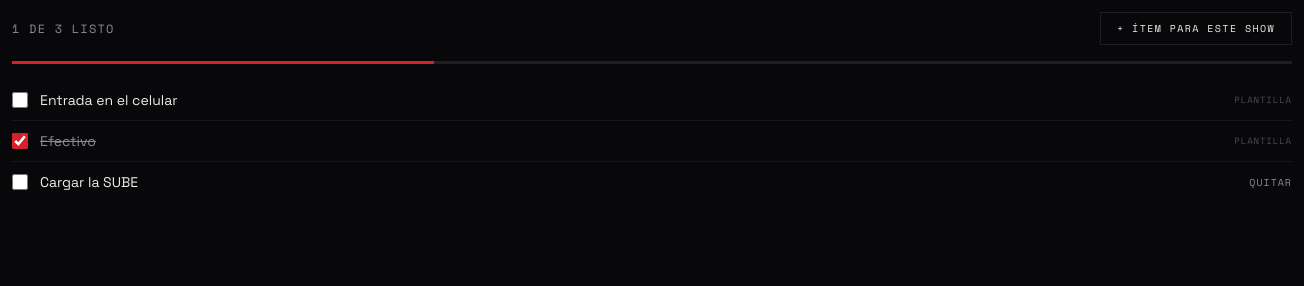
Test: PreShowChecklist › agrega un ítem puntual del show sin tocar la plantilla
The width and height of the screenshot is (1304, 286).
Click the button "+ Ítem para este show". click: click(1196, 28)
box: 1100,12 -> 1292,45
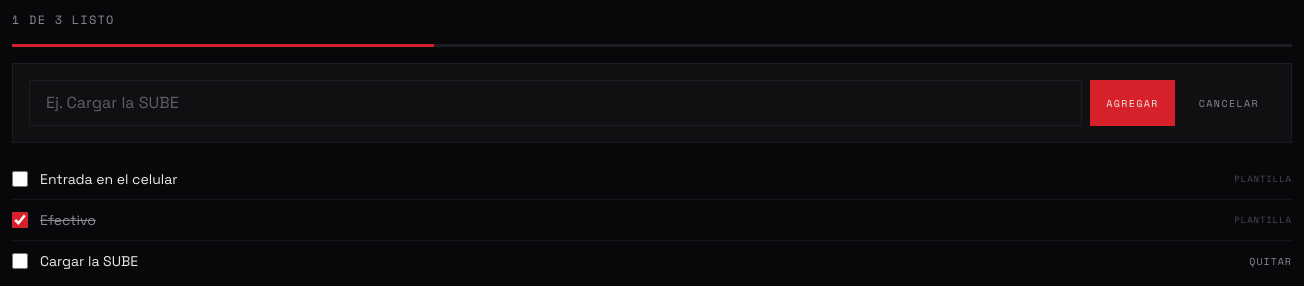
Type "Campera" into the field named "Ítem para este show". click: (556, 103)
box: 29,80 -> 1082,126
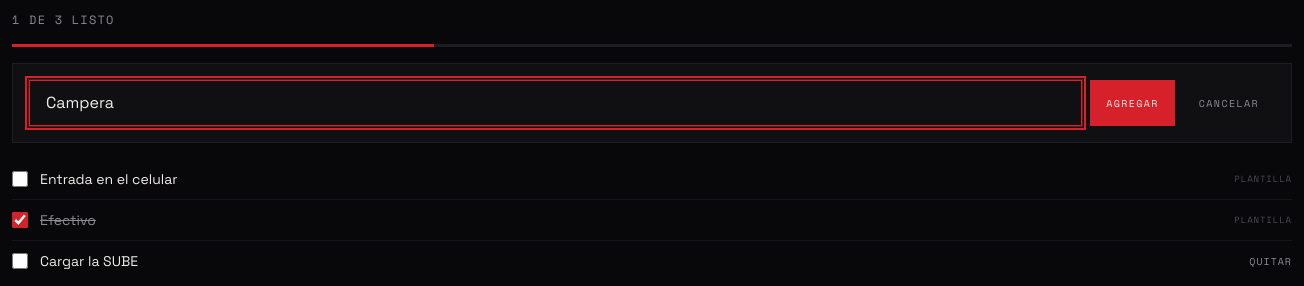
Click the button "Agregar". click: click(1132, 103)
box: 1090,80 -> 1175,126
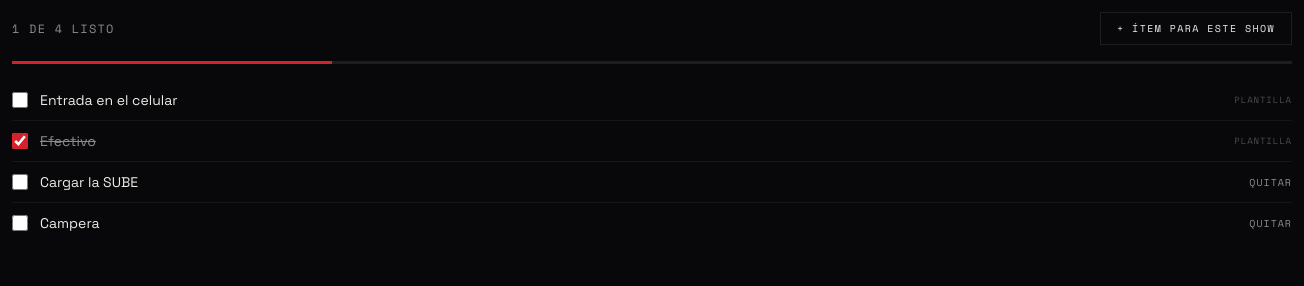
Expected: the text "Campera" is shown, 40,213 -> 100,233
